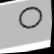no answer: (17, 3, 45, 31)
